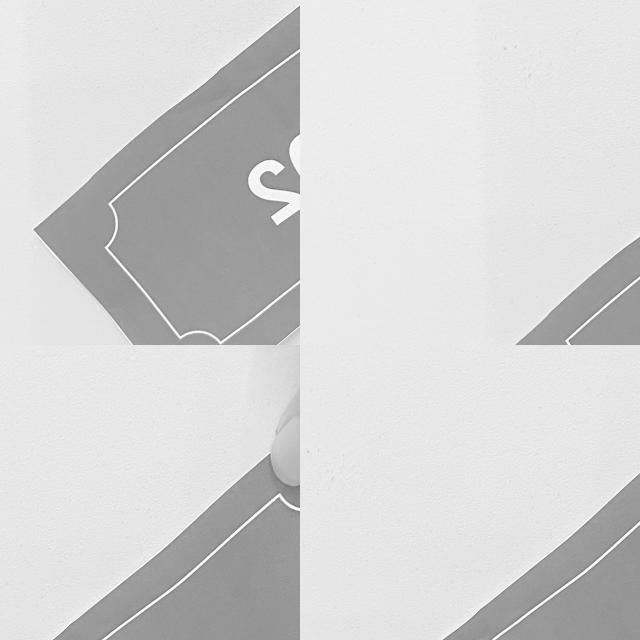Card: (300, 0, 640, 345), (300, 371, 640, 640), (0, 133, 92, 345)
